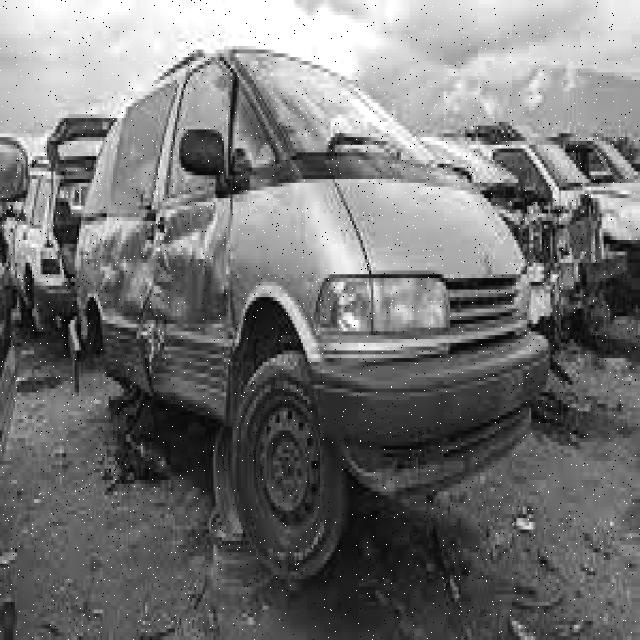Van: (2, 160, 105, 335)
